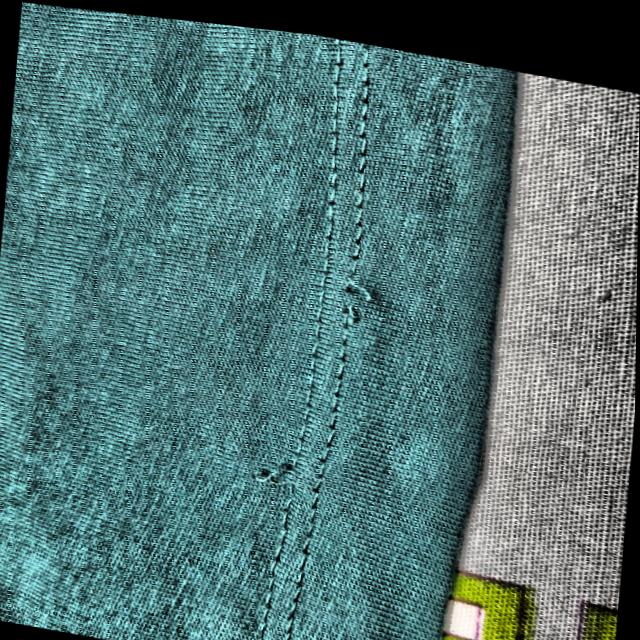Stitch: (301, 207, 407, 366)
